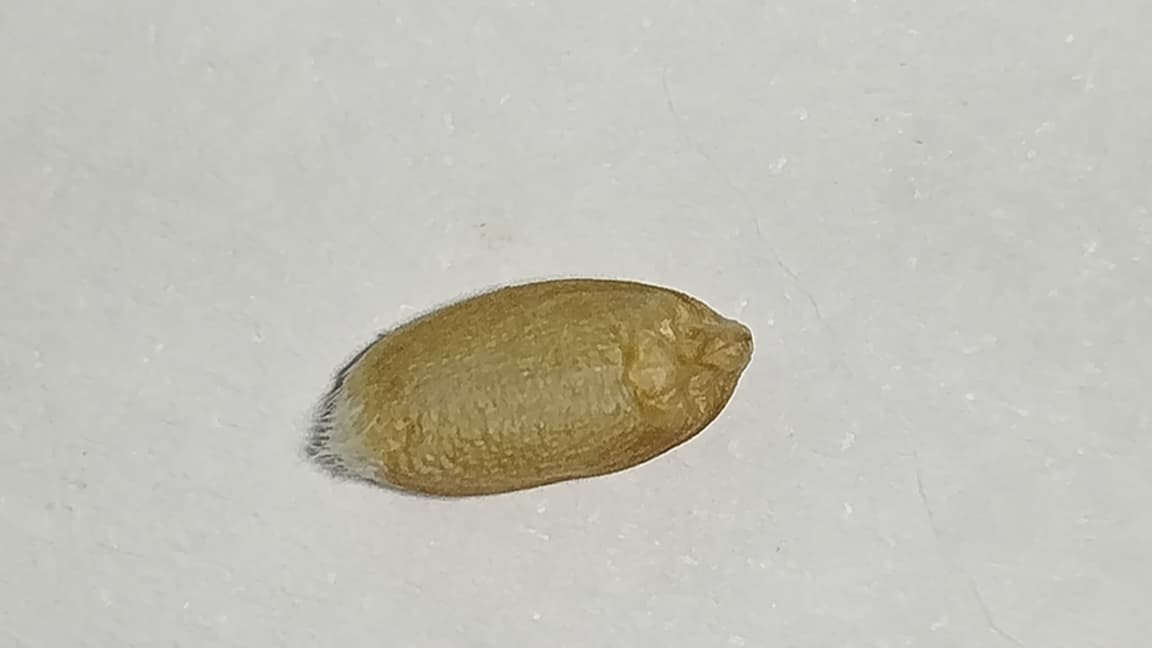healthy: (313, 280, 752, 495)
